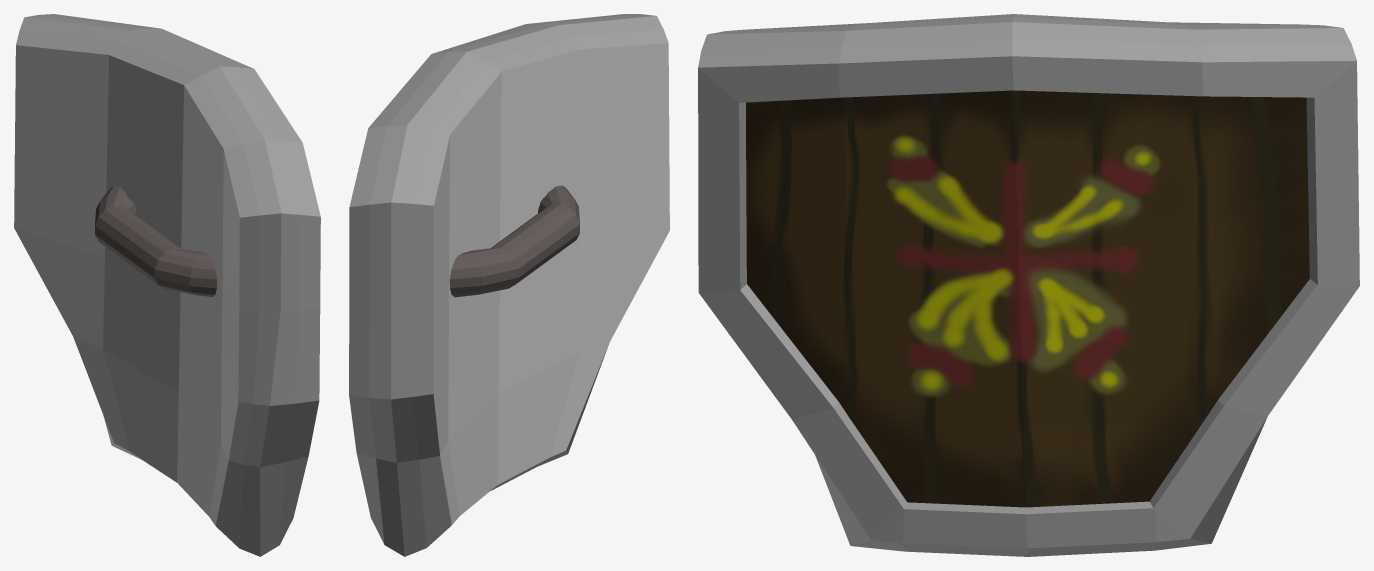
File: Sheild.fbx
The picture shows the model from 3 angles, left to right: view 1: azimuth 30°, elevation 25°; view 2: azimuth 150°, elevation 25°; view 3: azimuth 270°, elevation 25°; orthographic projection. The views are drawn at different scales.
Visible parts, largest first — view 1: Cube, Cylinder; view 2: Cube, Cylinder; view 3: Cube.
Part boxes in pixels (left/top/right/bottom): Cube: left=14, top=14, right=320, bottom=556; Cylinder: left=95, top=186, right=216, bottom=296; Cube: left=349, top=14, right=669, bottom=556; Cylinder: left=449, top=185, right=579, bottom=297; Cube: left=698, top=14, right=1359, bottom=556.
Size of the model in its own units: 72.64 by 243 by 271.
Materials: 2 (1 with a texture image).
